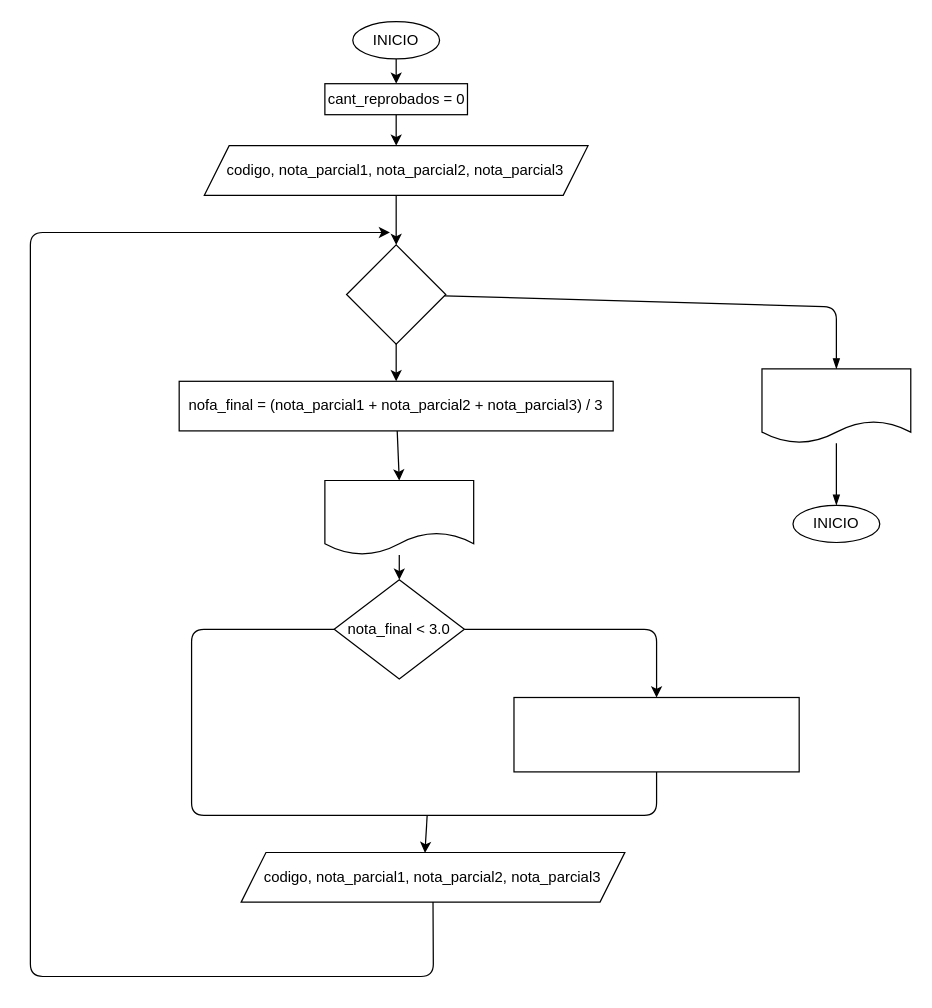
The diagram is 932 pixels wide and 1008 high, and some of its shapes have lost their labels. The box of each missing label's shape, as (x1, y1, x2, y2) in pixels:
cant_reprobadas = cant_reprobados + 1: (513, 696, 799, 772)
cant_reprobrados: (761, 368, 911, 443)
codigo != 0: (345, 244, 446, 344)
codigo, nota_final: (324, 479, 474, 555)
